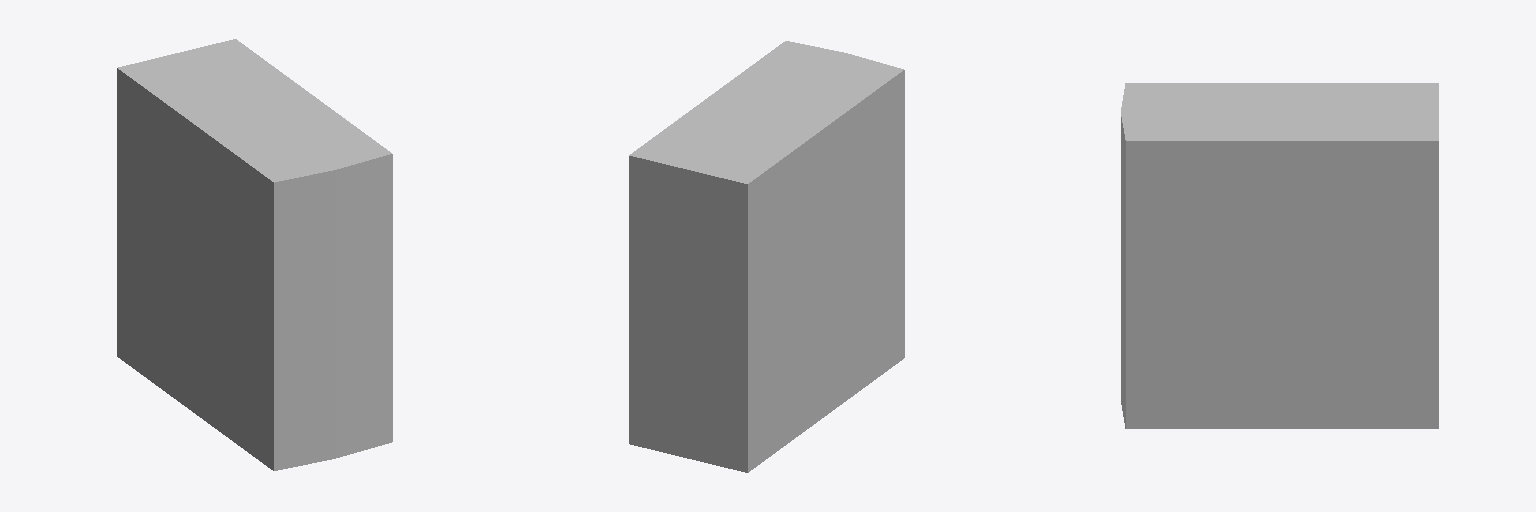
File: computer_tower_alt.obj
3 renders of one model, left to right at view 1: azimuth 30°, elevation 25°; view 2: azimuth 150°, elevation 25°; view 3: azimuth 270°, elevation 25°, orthographic.
Visible parts, largest first — view 1: computer_tower_alt; view 2: computer_tower_alt; view 3: computer_tower_alt.
Part boxes in pixels (left/top/right/bottom): computer_tower_alt: left=117, top=39, right=392, bottom=470; computer_tower_alt: left=629, top=41, right=904, bottom=472; computer_tower_alt: left=1121, top=83, right=1438, bottom=428.
Bounding box in the file's own units: 0.2622 × 0.6091 × 0.6091.